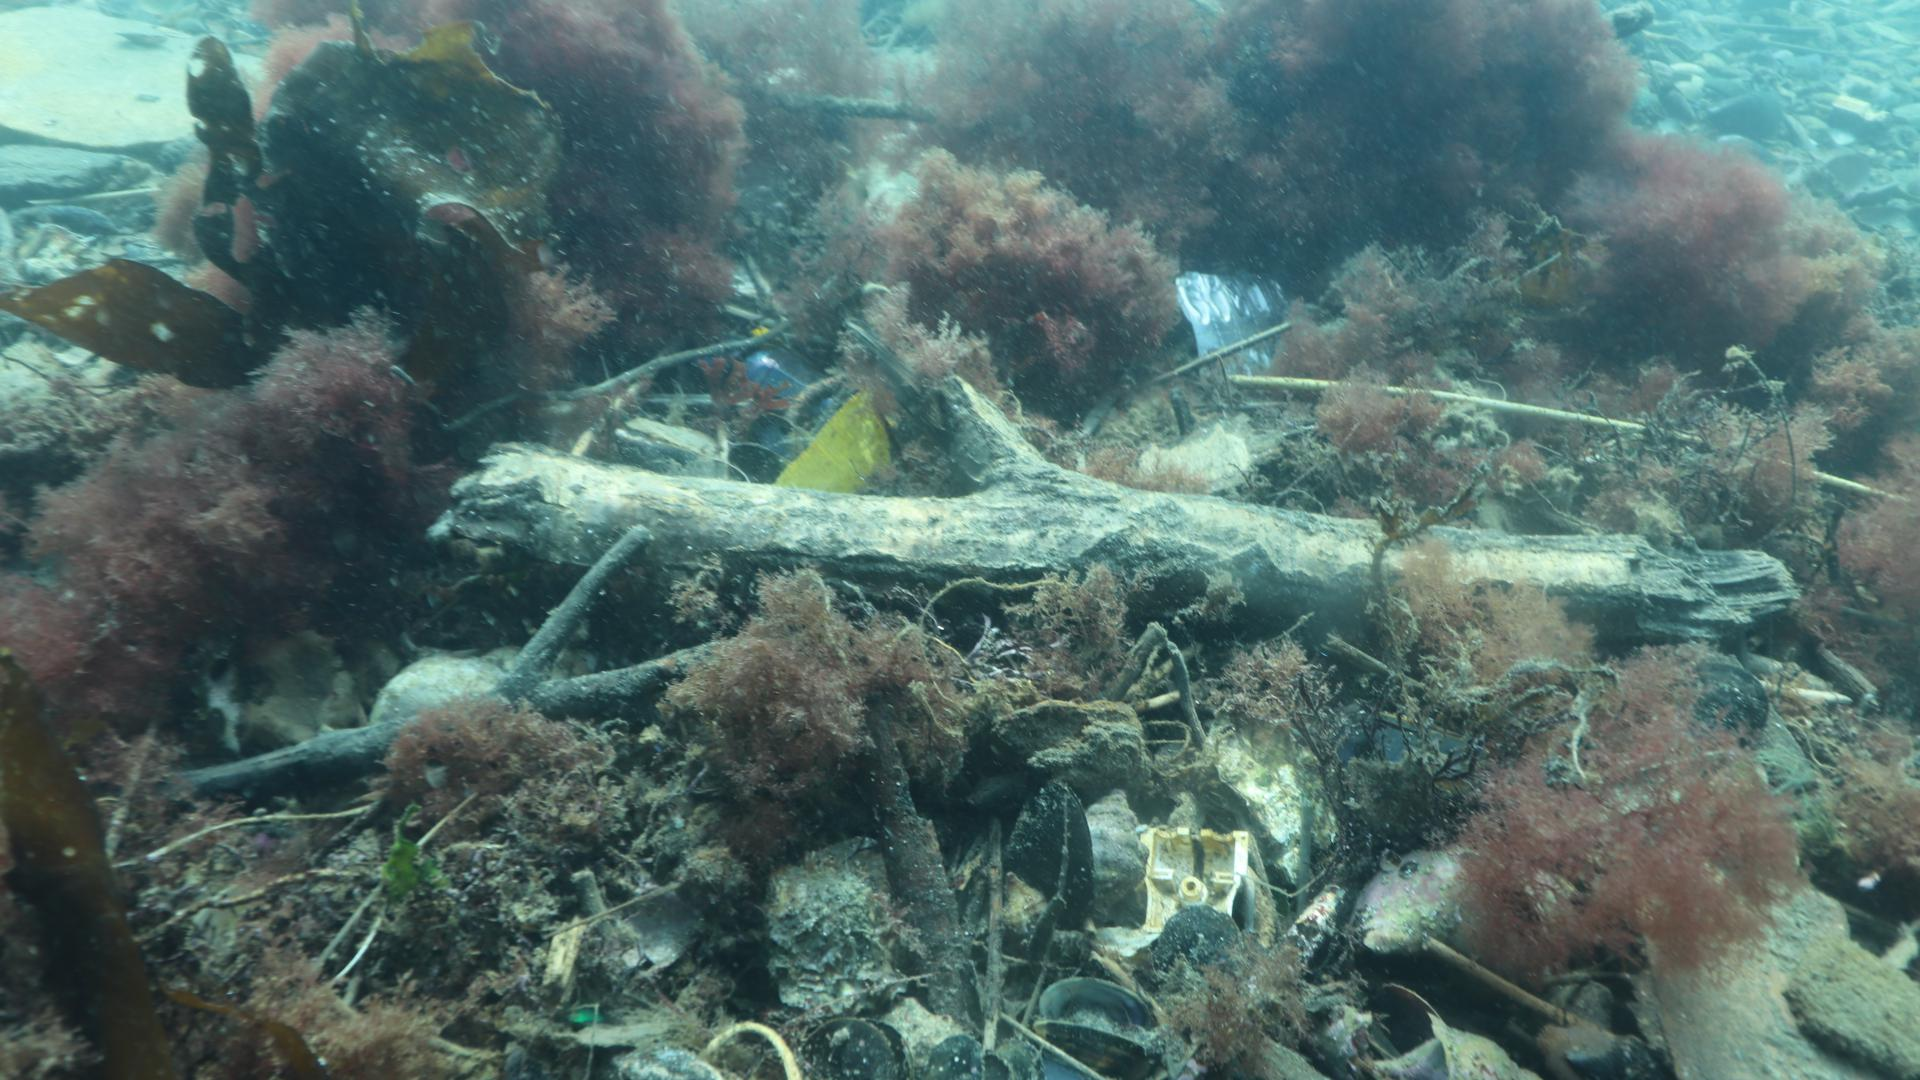wood: (419, 371, 1801, 642)
